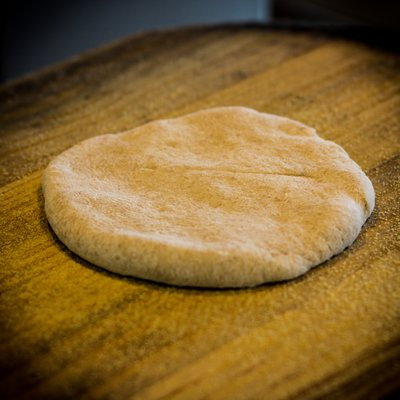sandwich: (38, 105, 368, 289)
